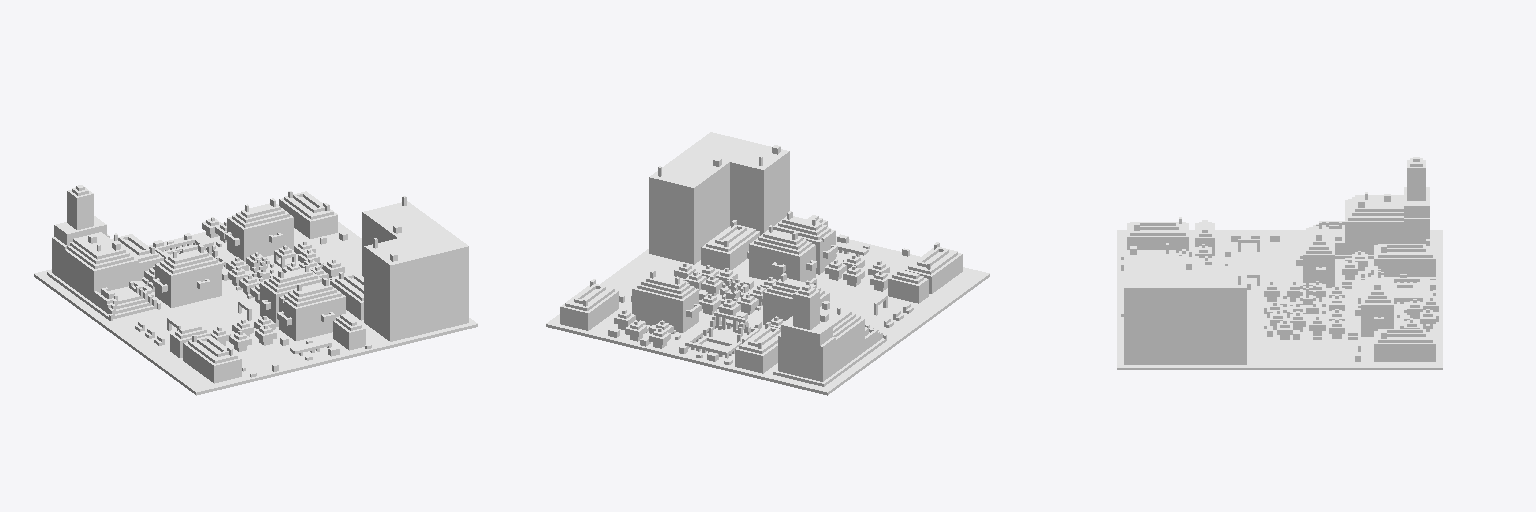
Rendered from City1old.obj.
The picture shows the model from 3 angles: view 1: azimuth 30°, elevation 25°; view 2: azimuth 150°, elevation 25°; view 3: azimuth 270°, elevation 25°; orthographic projection.
Parts seen in each view (by area): view 1: object 1; view 2: object 1; view 3: object 1.
Boxes of the visible parts, <box> form: object 1: <box>34,185,477,395</box>; object 1: <box>546,132,989,395</box>; object 1: <box>1117,157,1442,369</box>.
Size of the model in its own units: 10 by 3.1 by 10.